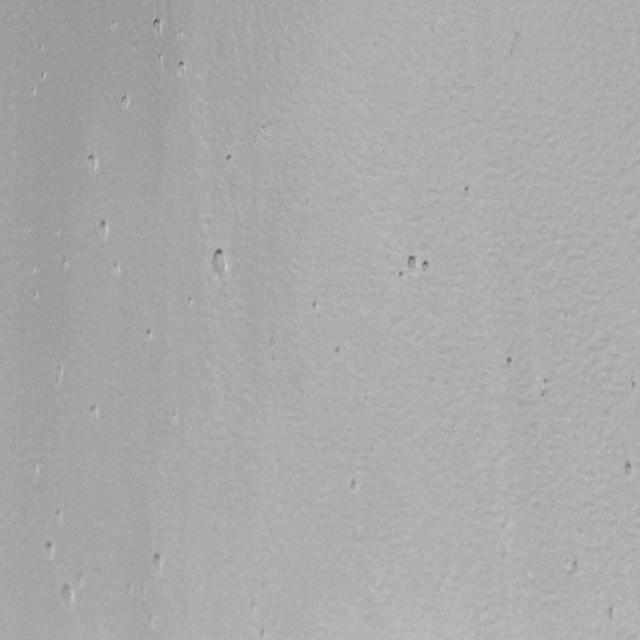pin holes: (207, 244, 232, 282), (57, 582, 78, 610), (150, 550, 170, 576), (256, 118, 278, 139), (602, 602, 621, 626), (621, 460, 639, 483), (85, 152, 102, 174), (95, 219, 112, 240), (152, 16, 168, 38), (52, 362, 67, 385), (404, 254, 420, 275), (43, 539, 58, 560), (88, 402, 103, 422), (120, 92, 134, 112), (420, 258, 434, 276), (504, 354, 518, 372), (346, 478, 360, 494), (175, 59, 188, 76), (224, 152, 238, 167), (332, 344, 345, 360), (53, 508, 65, 525), (463, 183, 475, 200), (112, 261, 124, 277), (60, 258, 72, 274), (156, 51, 166, 70), (258, 624, 271, 638), (143, 327, 155, 342), (110, 18, 121, 34), (628, 378, 638, 393), (311, 297, 321, 312), (29, 86, 39, 100), (40, 70, 51, 82)
